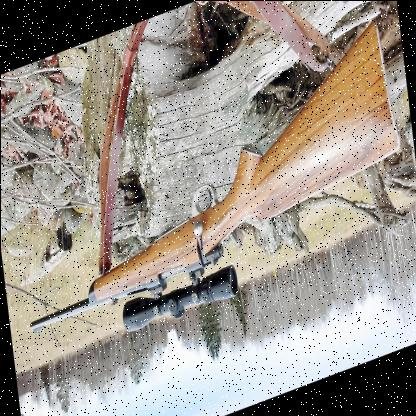rifle: (10, 13, 412, 372)
